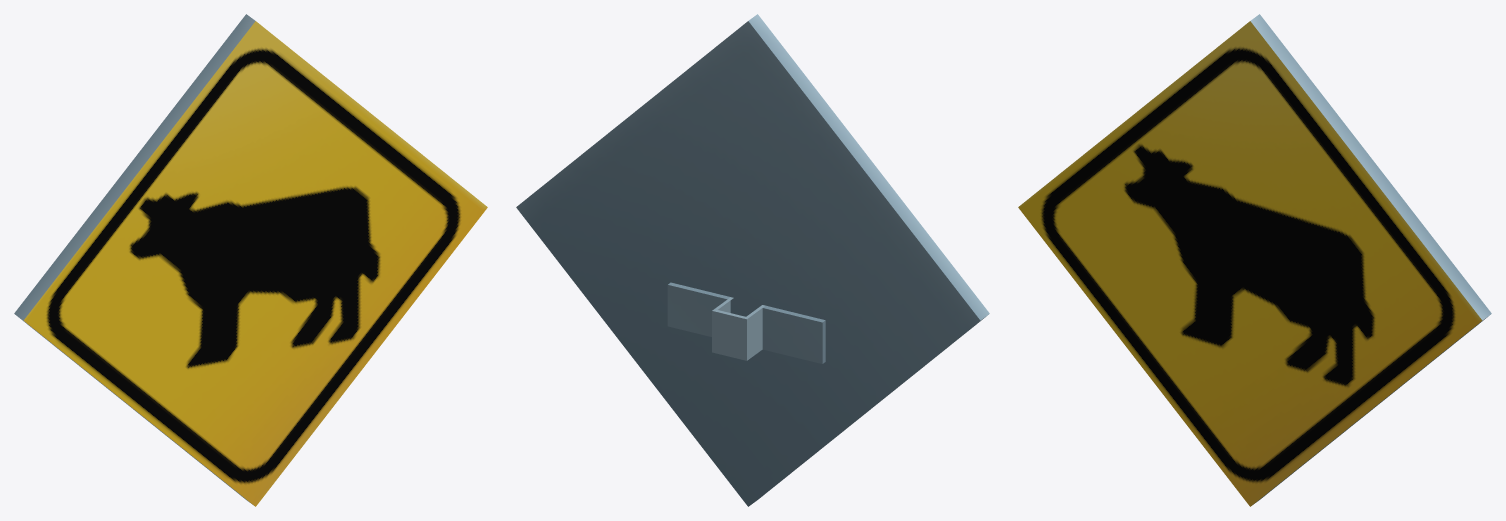
File: Sign3.fbx
The picture shows the model from 3 angles, left to right: view 1: azimuth 30°, elevation 25°; view 2: azimuth 150°, elevation 25°; view 3: azimuth 330°, elevation 25°; orthographic projection.
Visible parts, largest first — view 1: Sign3; view 2: Sign3; view 3: Sign3.
Part boxes in pixels (x1,y1,x2,y2): Sign3: (14,14,487,506); Sign3: (516,14,989,506); Sign3: (1018,14,1491,506).
Size of the model in its own units: 1.41 by 0.1489 by 1.41.
